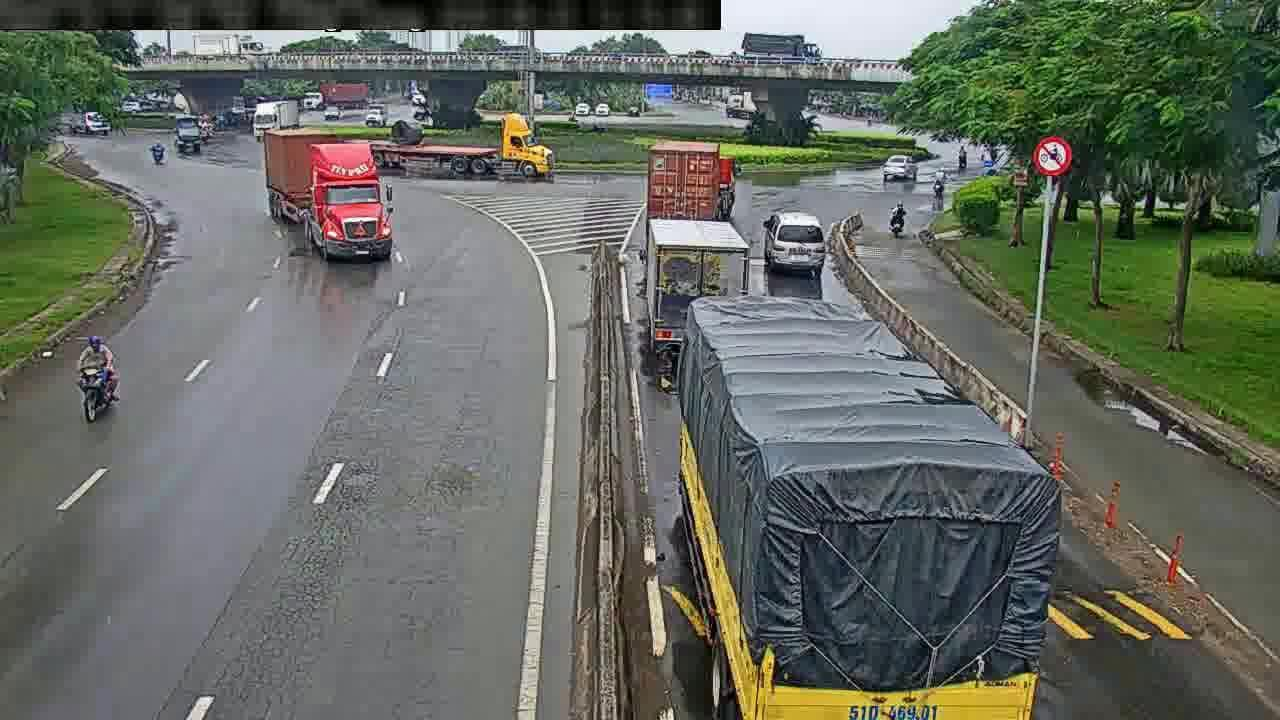car: (765, 210, 827, 278), (881, 154, 921, 182)
container: (675, 284, 1068, 720), (248, 118, 400, 259), (643, 210, 750, 368), (362, 106, 559, 178), (640, 139, 744, 217), (250, 97, 301, 141)
motorbike: (81, 328, 116, 429), (888, 200, 912, 233), (929, 169, 946, 191)
